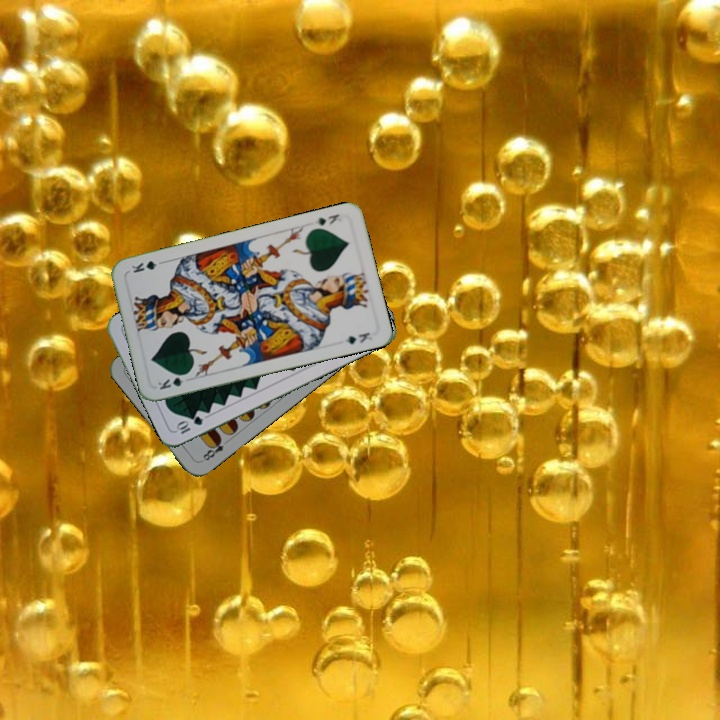E8: (197, 434, 232, 464)
G10: (172, 412, 205, 437)
GK: (154, 369, 192, 392), (311, 210, 342, 228)
